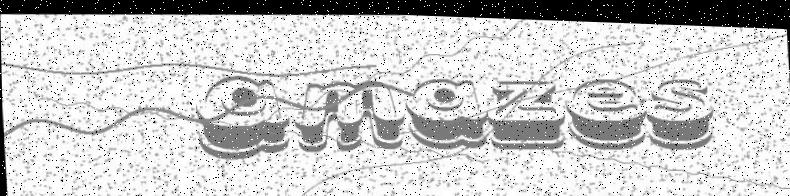a: (192, 70, 295, 161), (402, 72, 489, 151)
e: (564, 69, 649, 149)
m: (291, 74, 406, 153)
s: (644, 71, 717, 148)
z: (485, 72, 567, 148)
